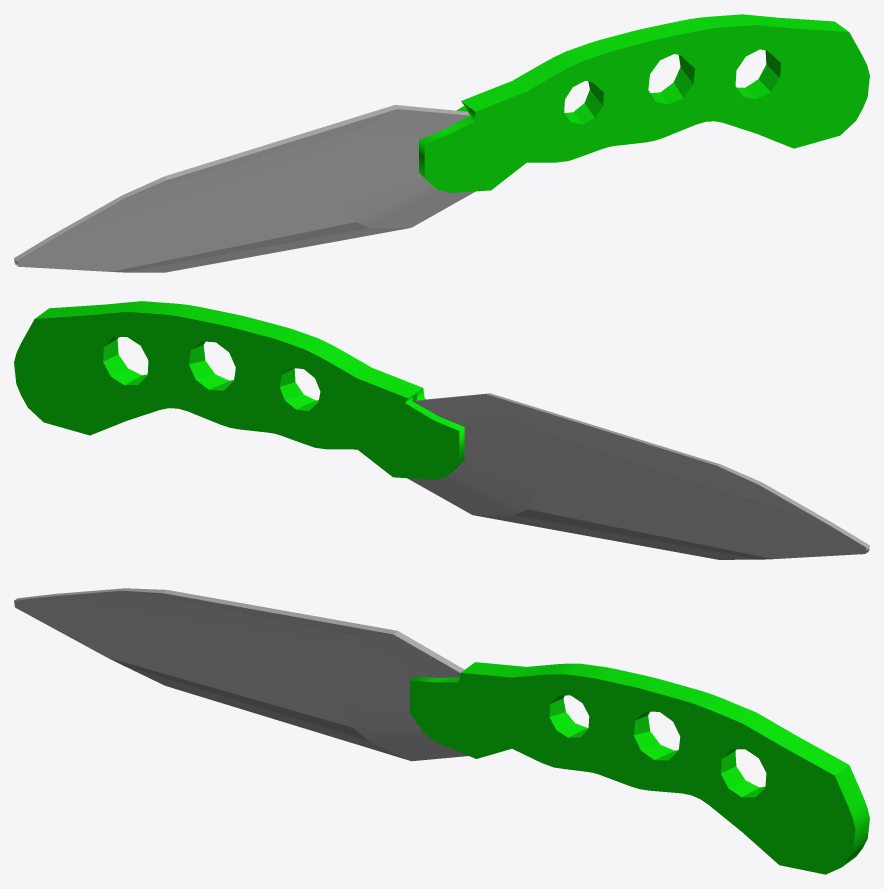
The model's file is couteau.fbx.
3 views of the same model, one above another, from view 1: azimuth 30°, elevation 25°; view 2: azimuth 150°, elevation 25°; view 3: azimuth 330°, elevation 25° (orthographic).
Parts seen in each view (by area): view 1: pCube1; view 2: pCube1; view 3: pCube1.
Part boxes in pixels (bbox=[...]): pCube1: bbox=[14, 14, 869, 272]; pCube1: bbox=[14, 301, 869, 559]; pCube1: bbox=[14, 588, 869, 874].
Size of the model in its own units: 6.78 by 1.09 by 0.2024.
